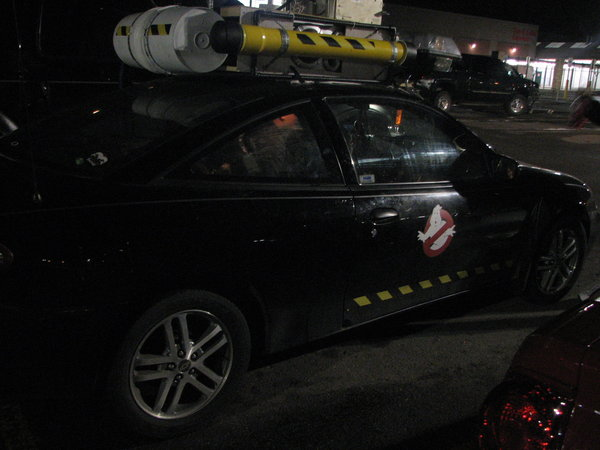car: (396, 40, 544, 122)
